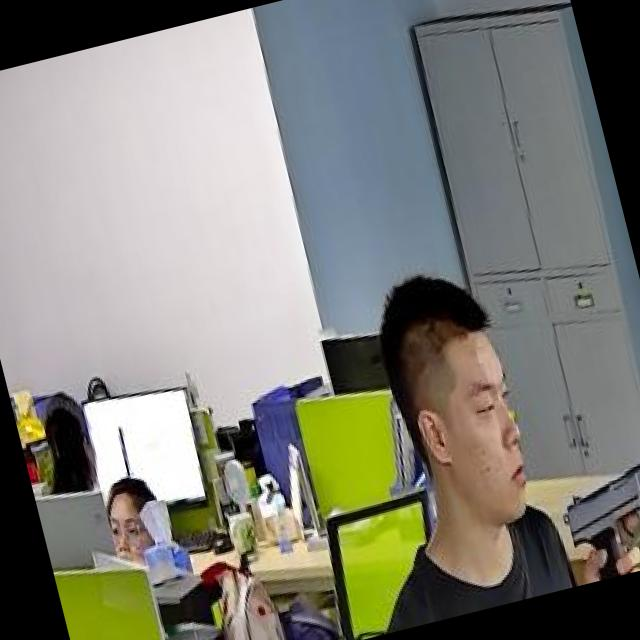Guns: (527, 421, 640, 590)
